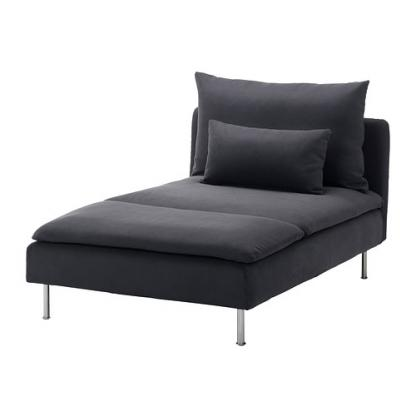Bed: (21, 68, 394, 350)
